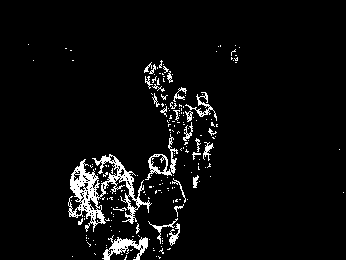person: (137, 152, 187, 258), (189, 89, 219, 191), (165, 85, 194, 175)
